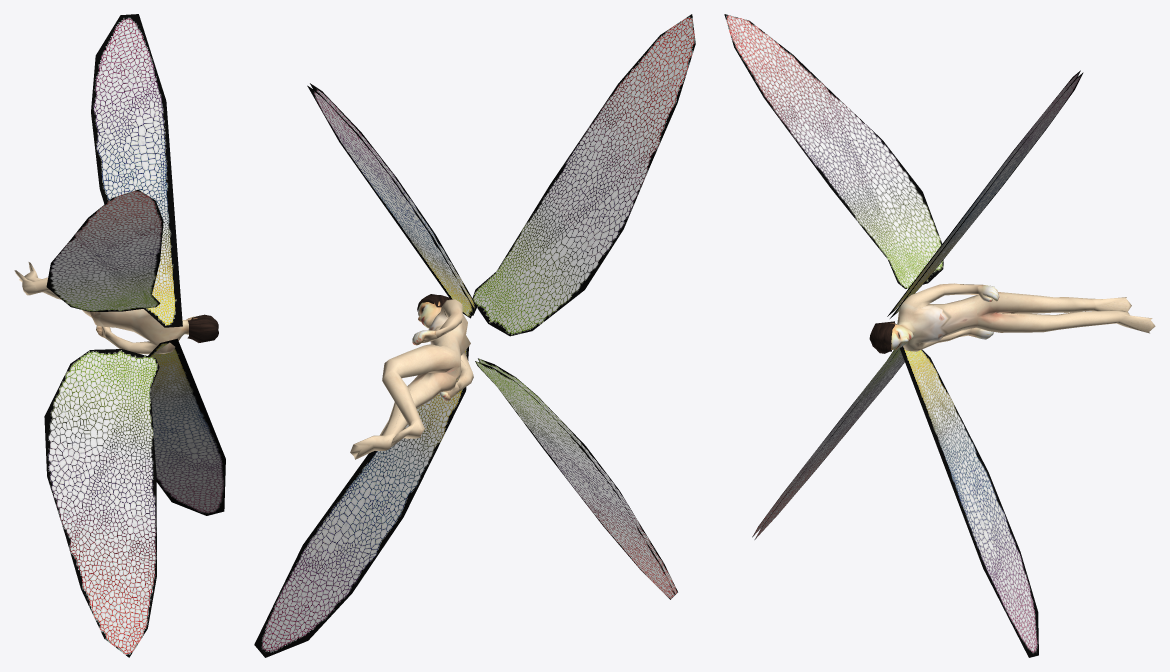
The model's file is angel_000011.obj.
3 views of the same model, side by side, from view 1: azimuth 30°, elevation 25°; view 2: azimuth 150°, elevation 25°; view 3: azimuth 270°, elevation 25° (orthographic). The views are drawn at different scales.
Parts seen in each view (by area): view 1: Plane.001, Plane.003, Plane.002, Plane, body.001_omino.012, hair.003_omino.013; view 2: Plane.002, Plane, Plane.001, body.001_omino.012, Plane.003; view 3: Plane.002, Plane, body.001_omino.012, Plane.003, Plane.001, hair.003_omino.013.
Boxes of the visible parts, <box> form: Plane.001: <box>44,349,159,657</box>; Plane.003: <box>91,14,182,327</box>; Plane.002: <box>46,189,163,311</box>; Plane: <box>148,338,225,515</box>; body.001_omino.012: <box>14,262,197,354</box>; hair.003_omino.013: <box>187,314,218,342</box>; Plane.002: <box>472,14,695,336</box>; Plane: <box>254,346,469,657</box>; Plane.001: <box>475,358,677,599</box>; body.001_omino.012: <box>350,299,473,459</box>; Plane.003: <box>307,83,476,318</box>; Plane.002: <box>724,14,943,288</box>; Plane: <box>900,346,1038,657</box>; body.001_omino.012: <box>884,283,1155,351</box>; Plane.003: <box>887,70,1083,318</box>; Plane.001: <box>752,348,904,539</box>; hair.003_omino.013: <box>869,321,896,353</box>.
Size of the model in its own units: 3.05 by 5.99 by 4.26.
